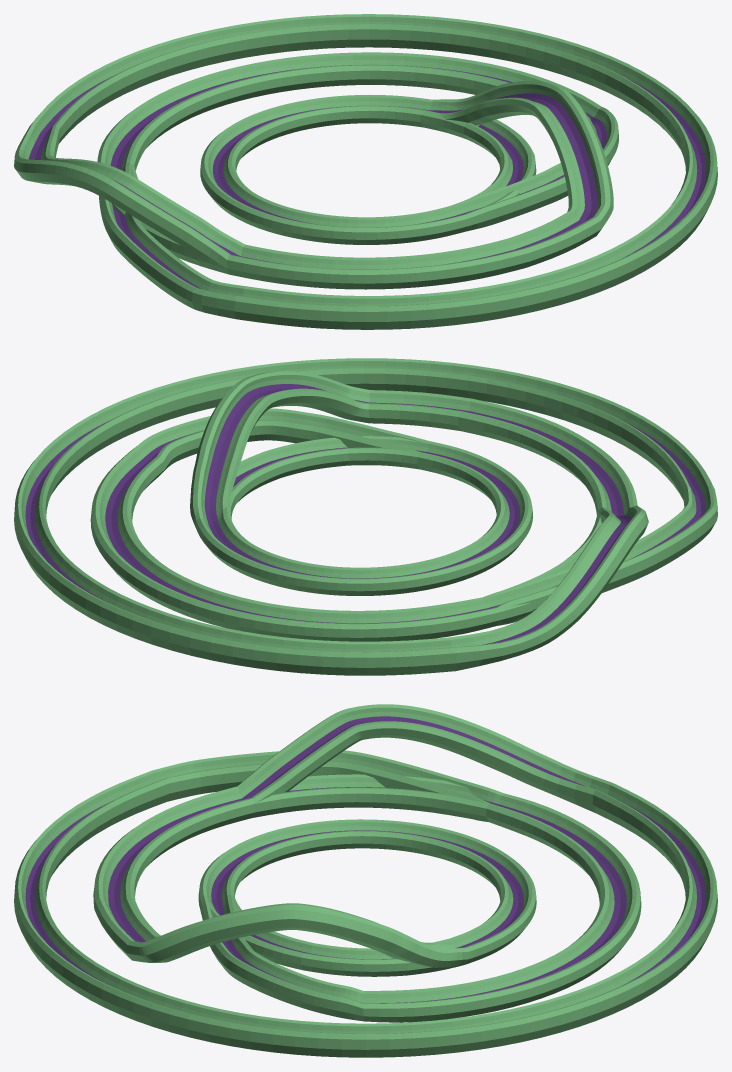
File: LEVEL5.fbx
3 views of the same model, one above another, from view 1: azimuth 30°, elevation 25°; view 2: azimuth 150°, elevation 25°; view 3: azimuth 270°, elevation 25° (orthographic).
Visible parts, largest first — view 1: LEVEL5UPGRADE2, LEVEL5UPGRADE1, LEVEL5BASE, BRIDGE2, BRIDGE1, ROAD1, ROAD2, fallenpart1, fallenpart2; view 2: LEVEL5UPGRADE2, LEVEL5UPGRADE1, LEVEL5BASE, BRIDGE2, BRIDGE1, ROAD1, ROAD2, fallenpart1, fallenpart2; view 3: LEVEL5UPGRADE2, LEVEL5UPGRADE1, LEVEL5BASE, BRIDGE1, BRIDGE2, ROAD1, fallenpart2, ROAD2, fallenpart1.
Part boxes in pixels (left/top/right/bottom): LEVEL5UPGRADE2: left=32, top=14, right=717, bottom=329; LEVEL5UPGRADE1: left=97, top=52, right=601, bottom=289; LEVEL5BASE: left=200, top=94, right=467, bottom=244; BRIDGE2: left=422, top=80, right=613, bottom=228; BRIDGE1: left=14, top=122, right=245, bottom=268; ROAD1: left=99, top=162, right=245, bottom=318; ROAD2: left=449, top=107, right=618, bottom=231; fallenpart1: left=420, top=102, right=536, bottom=206; fallenpart2: left=112, top=163, right=229, bottom=274; LEVEL5UPGRADE2: left=14, top=358, right=714, bottom=675; LEVEL5UPGRADE1: left=90, top=390, right=637, bottom=641; LEVEL5BASE: left=196, top=441, right=532, bottom=595; BRIDGE2: left=190, top=371, right=369, bottom=527; BRIDGE1: left=450, top=505, right=648, bottom=670; ROAD1: left=482, top=485, right=717, bottom=625; ROAD2: left=131, top=408, right=429, bottom=473; fallenpart1: left=203, top=436, right=428, bottom=523; fallenpart2: left=499, top=511, right=601, bottom=623; LEVEL5UPGRADE2: left=14, top=770, right=717, bottom=1057; LEVEL5UPGRADE1: left=93, top=786, right=641, bottom=1022; LEVEL5BASE: left=198, top=819, right=536, bottom=964; BRIDGE1: left=237, top=704, right=612, bottom=813; BRIDGE2: left=126, top=903, right=468, bottom=967; ROAD1: left=153, top=750, right=503, bottom=821; fallenpart2: left=252, top=774, right=488, bottom=821; ROAD2: left=199, top=894, right=364, bottom=1021; fallenpart1: left=207, top=894, right=463, bottom=976.
Size of the model in its own units: 1415 by 201 by 1463.
